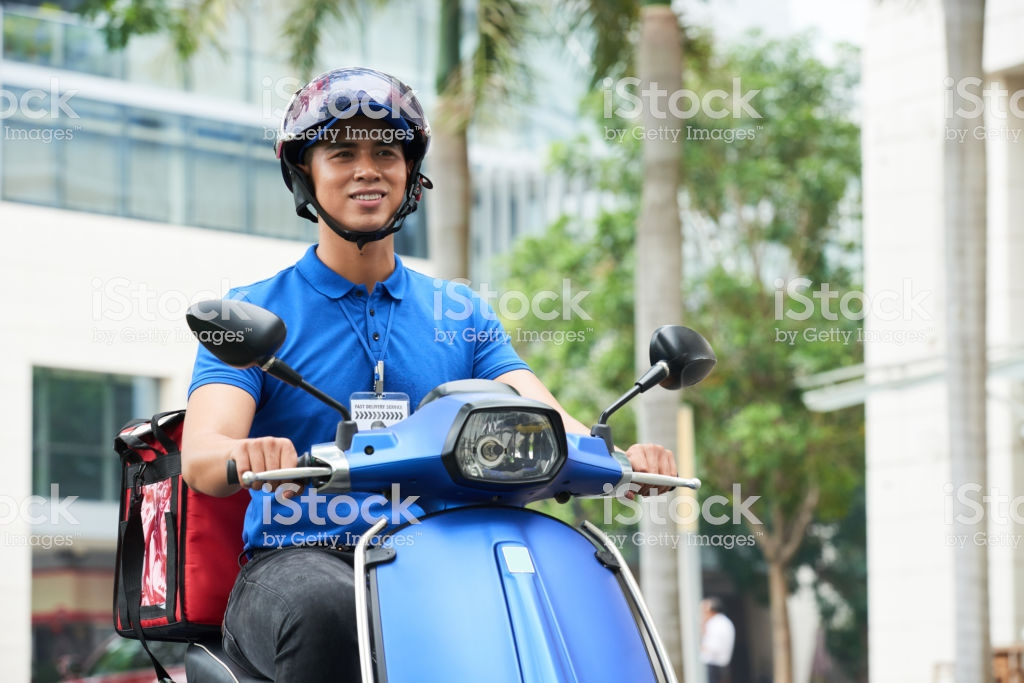helmet: (276, 76, 433, 177)
